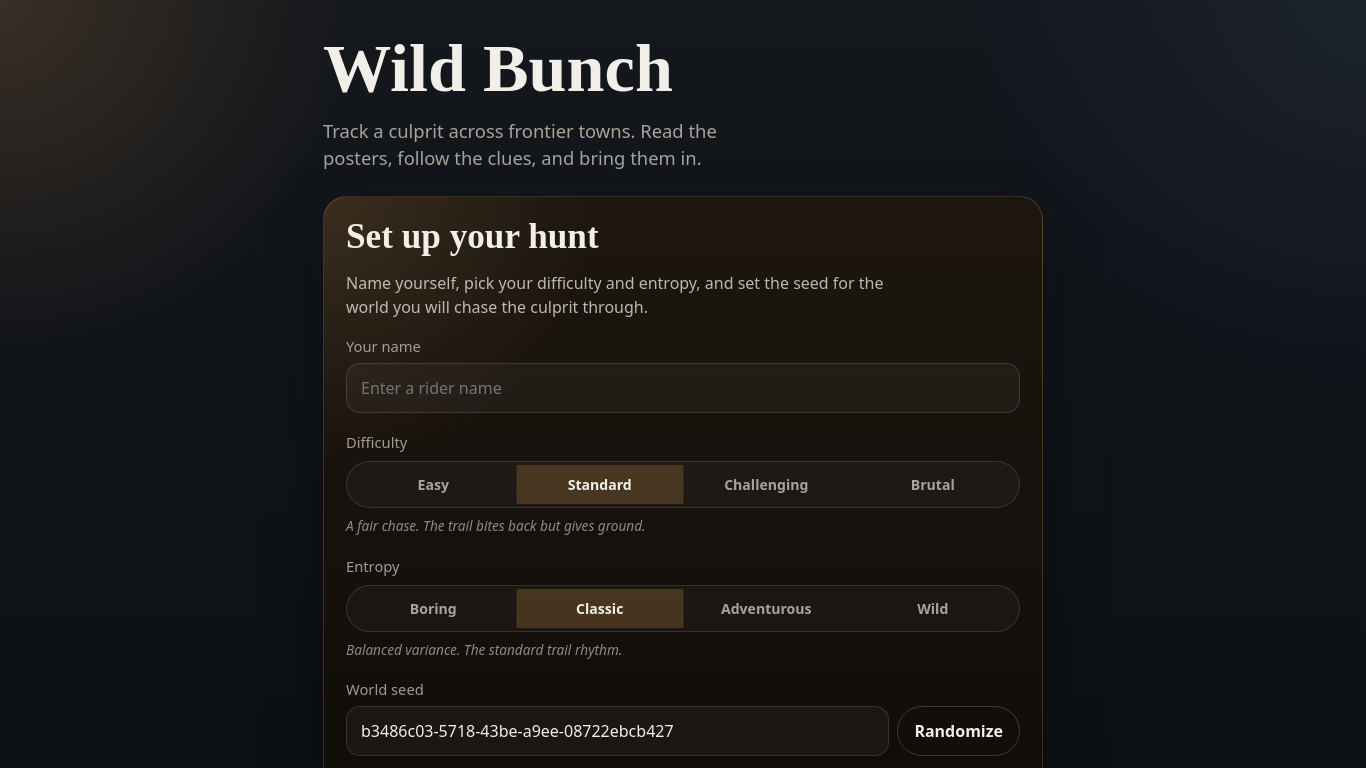
Test: StartFlow › shows entropy description for selected entropy
The width and height of the screenshot is (1366, 768).
Expected: the heading "Set up your hunt" is shown, [346,217,599,256]
Expected: the text "Balanced variance. The standard trail rhythm." is shown, [346,640,622,659]
// Click on Wild entropy
Click the button "Wild" at (933,608), box [850,589,1016,628]
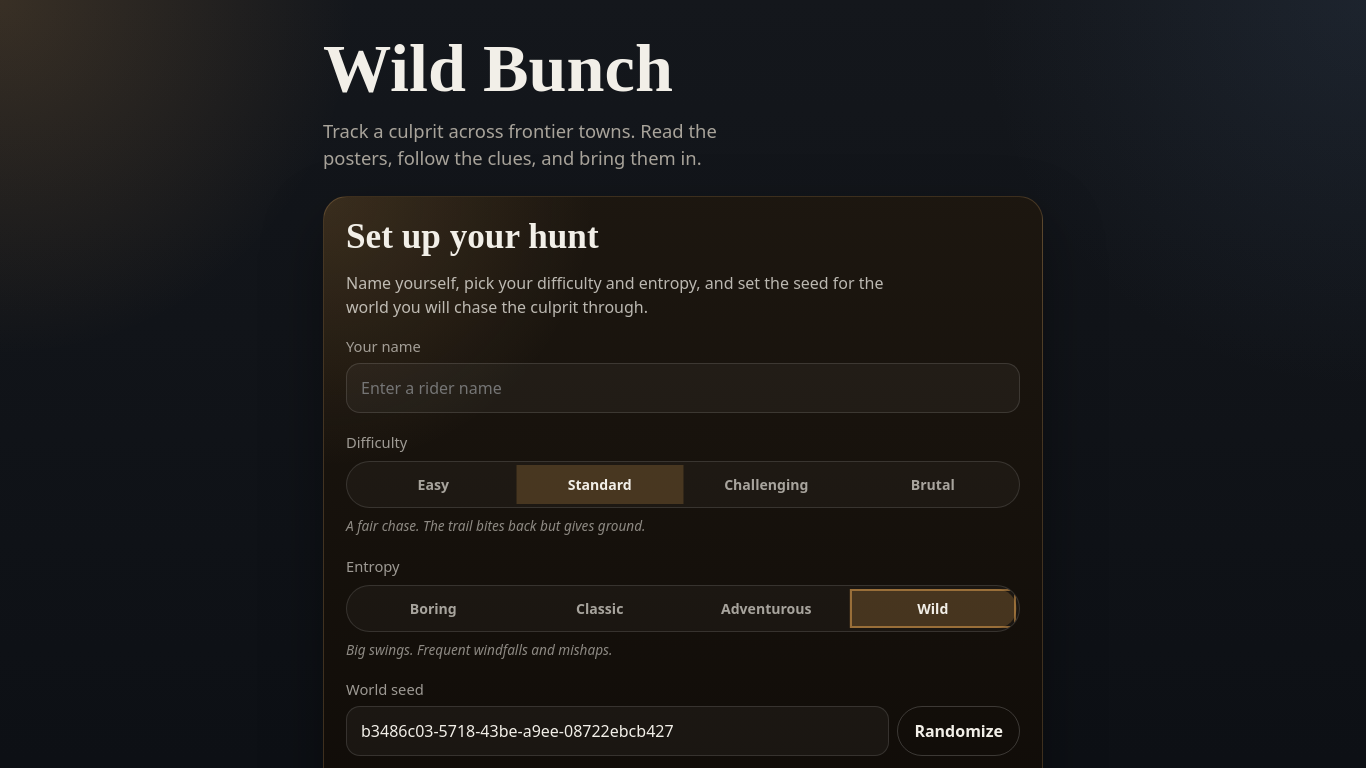
Expected: the text "Big swings. Frequent windfalls and mishaps." is shown, [346,640,612,659]
